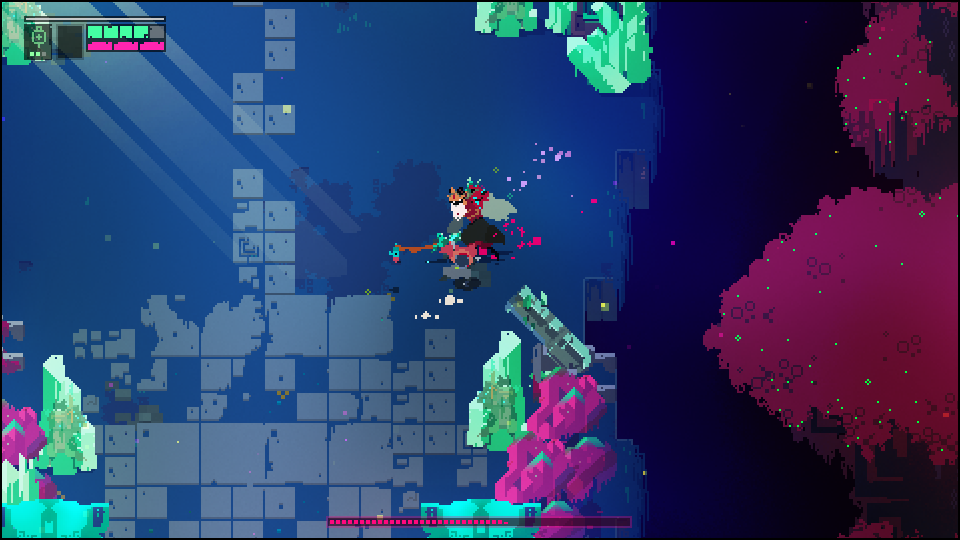hanged_man: (419, 173, 521, 268)
player: (437, 238, 487, 291)
